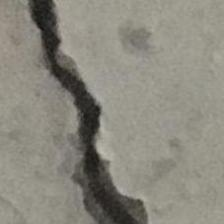Crack: (18, 0, 184, 224)
